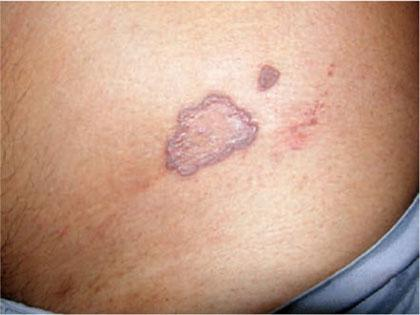annular lichen planus: (130, 30, 327, 212)
